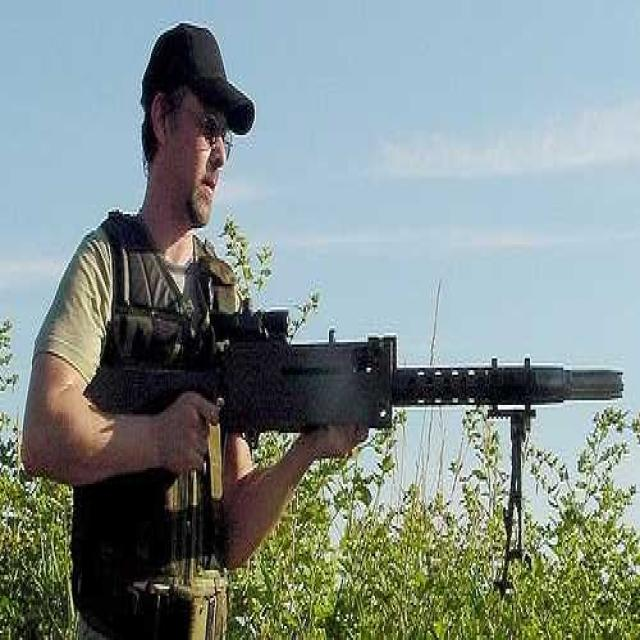RifleTel: (84, 295, 628, 473)
